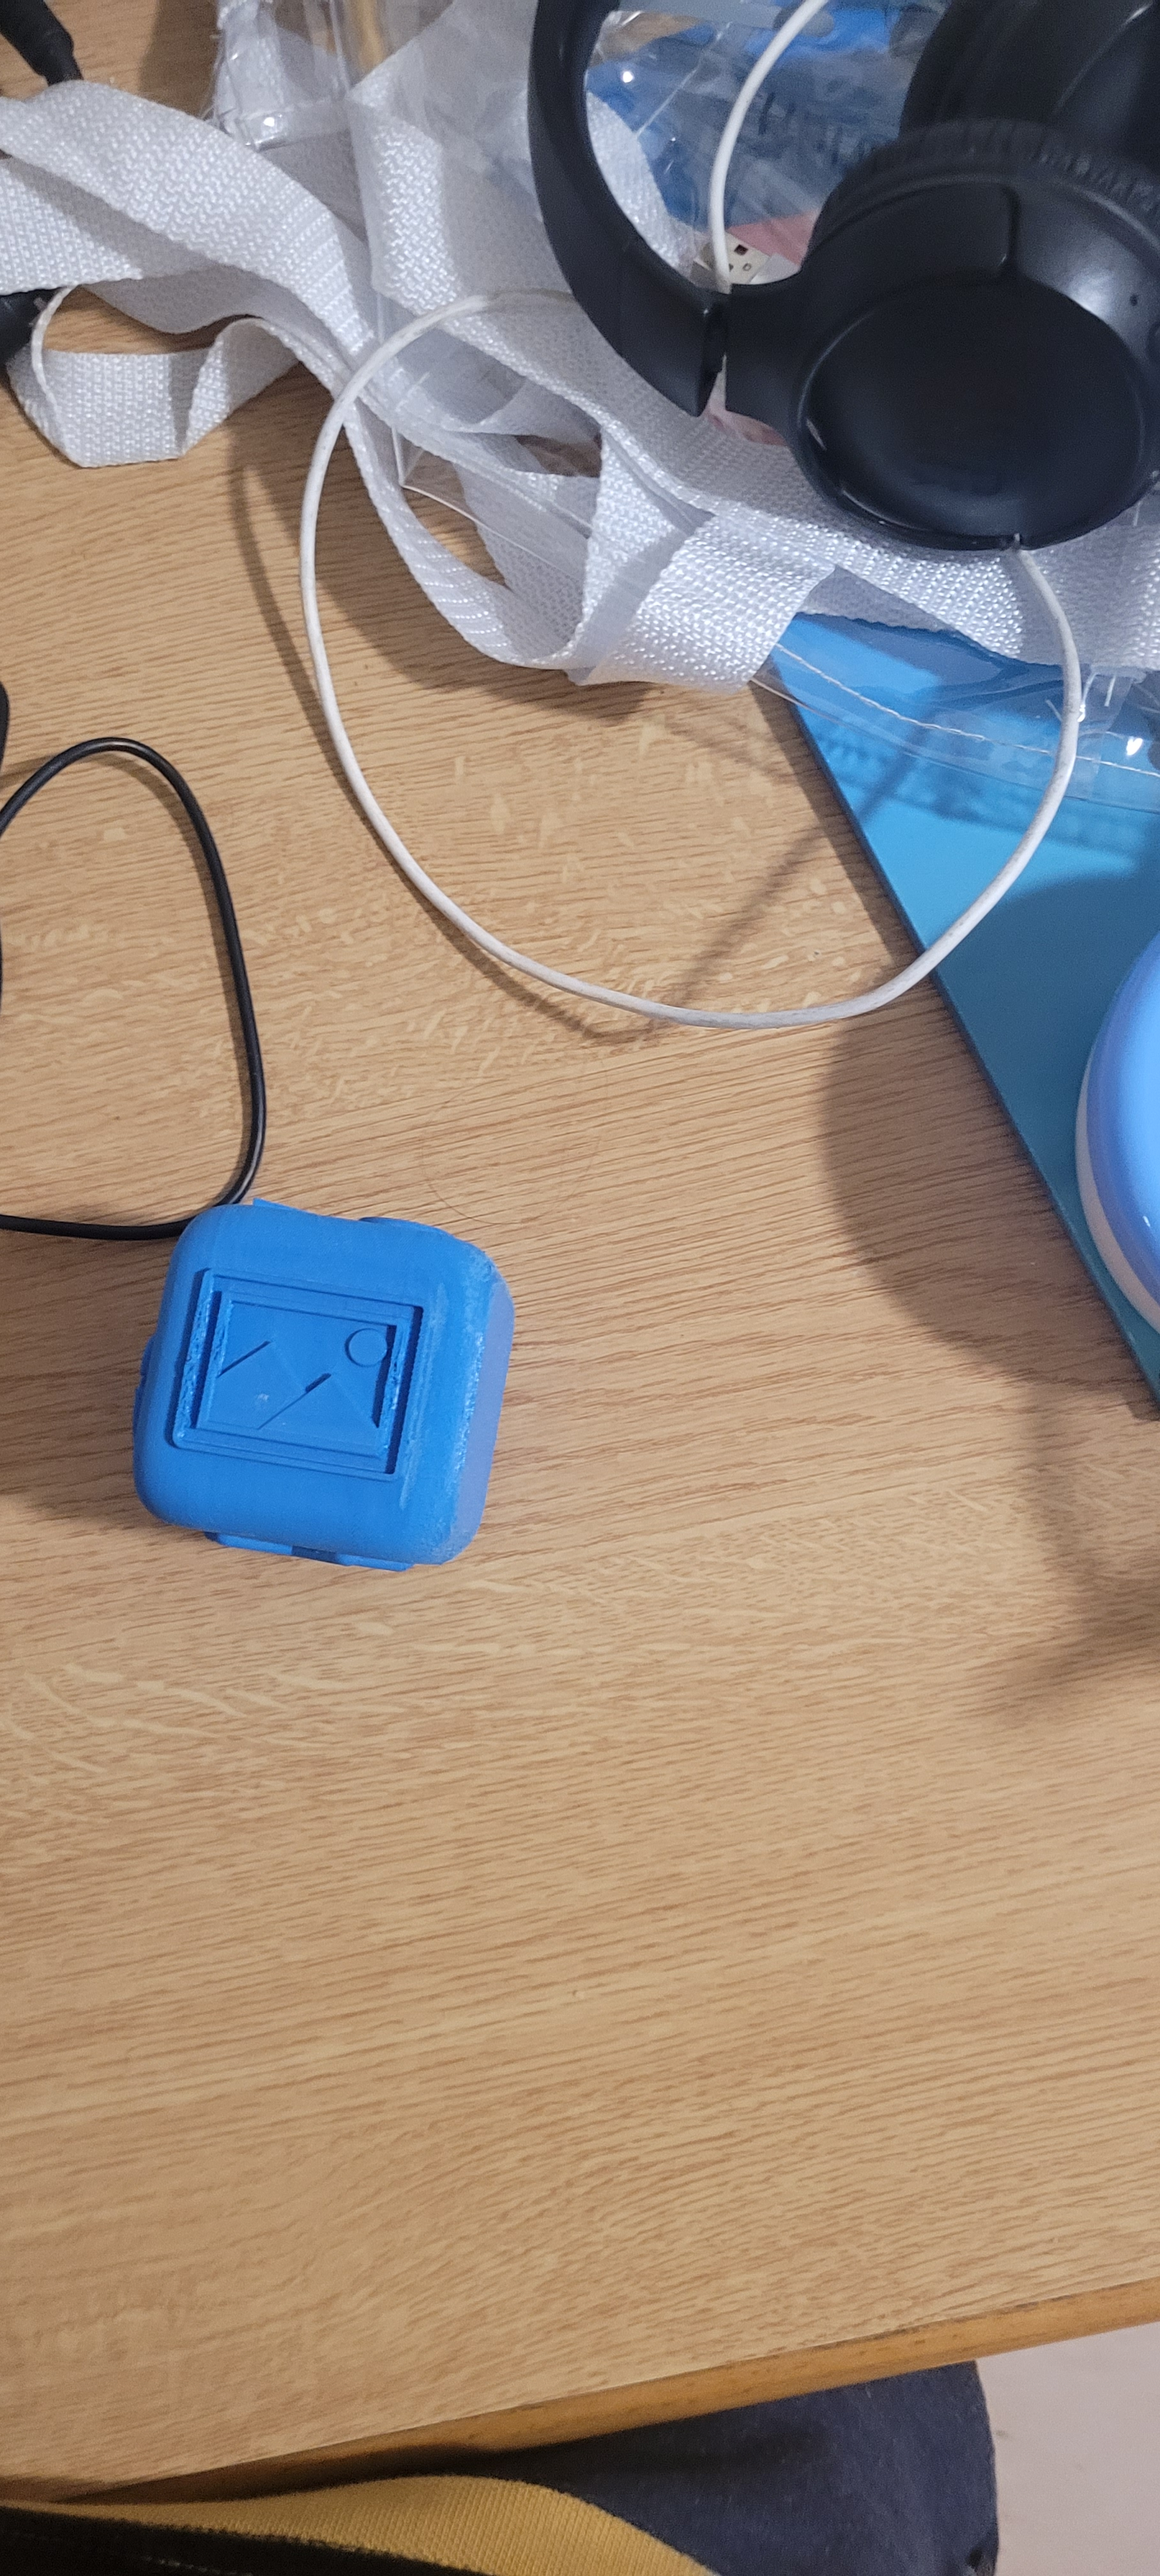Story: (122, 1258, 440, 1477)
